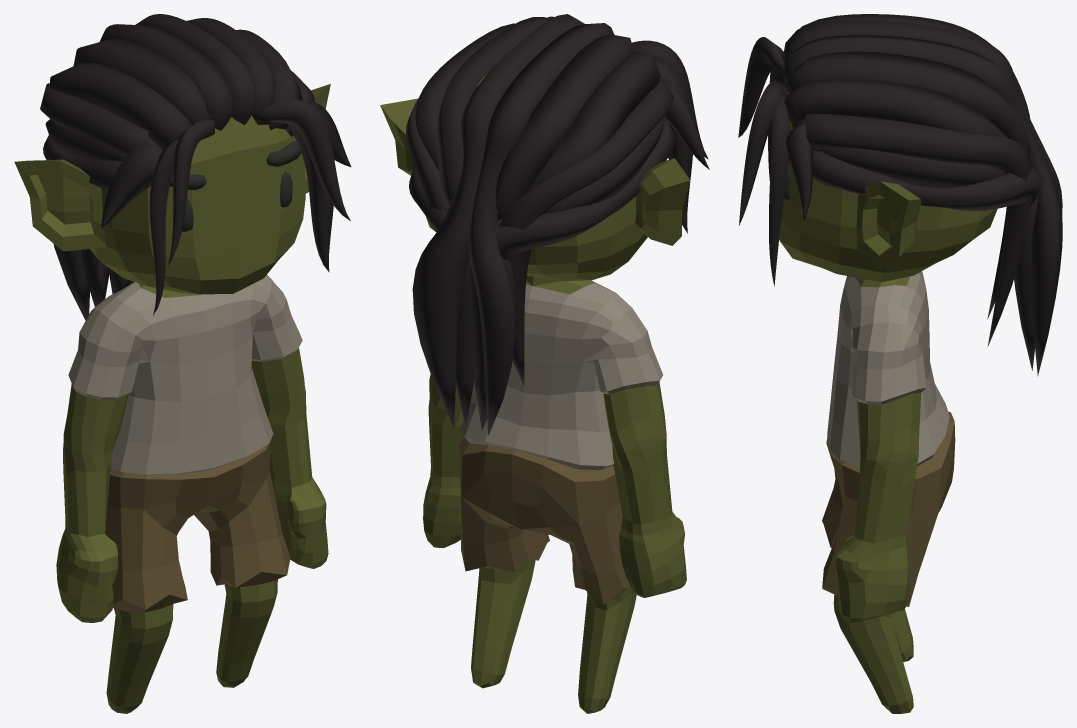
File: Goblin_Female.glb
3 renders of one model, left to right at view 1: azimuth 30°, elevation 25°; view 2: azimuth 150°, elevation 25°; view 3: azimuth 270°, elevation 25°, orthographic. The views are drawn at different scales.
Visible parts, largest first — view 1: Body; view 2: Body; view 3: Body.
Part boxes in pixels (<box>): Body: <box>14,14,351,713</box>; Body: <box>380,14,709,713</box>; Body: <box>738,14,1062,713</box>.
Bounding box in the file's own units: 0.7867 × 1.58 × 0.709.
